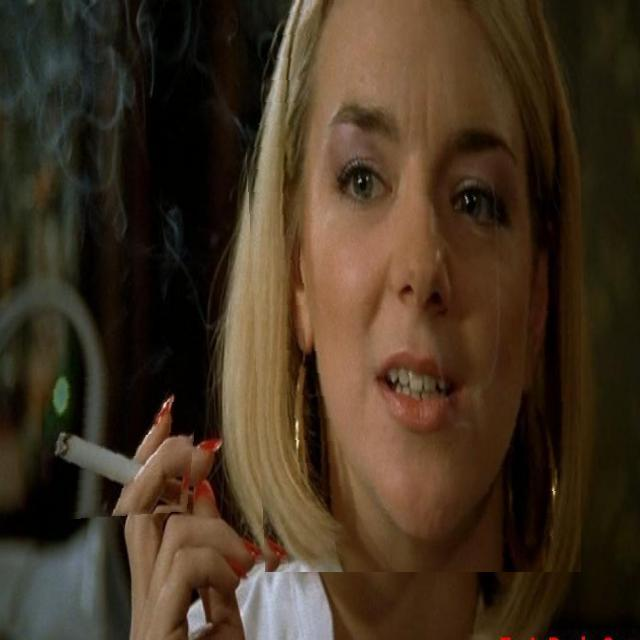cigarette: (42, 374, 201, 522)
